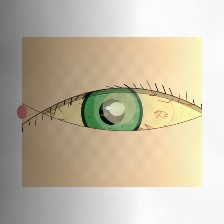corneal_ulcer: (92, 86, 147, 130)
